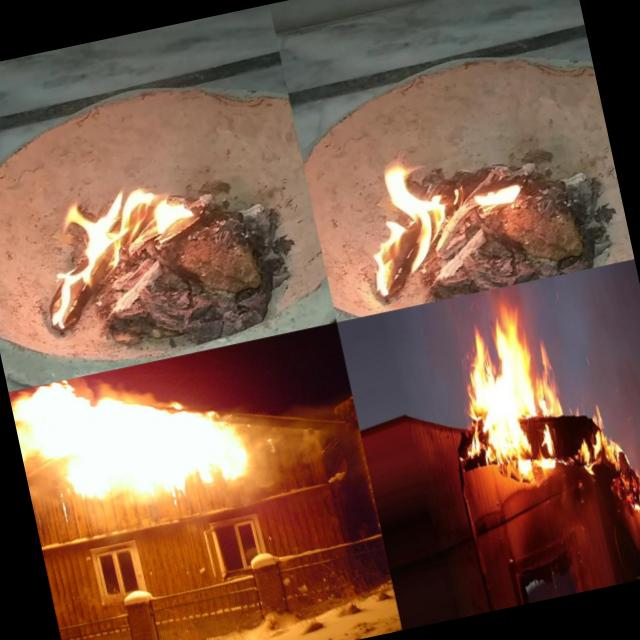fire: (8, 342, 266, 526), (14, 165, 214, 347), (344, 138, 544, 305), (438, 295, 576, 488), (566, 390, 626, 472), (623, 465, 640, 519)
